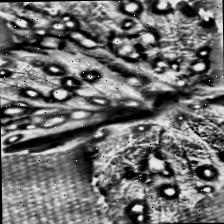Leaf Spot: (0, 0, 223, 94), (89, 100, 224, 224), (0, 47, 154, 154)
